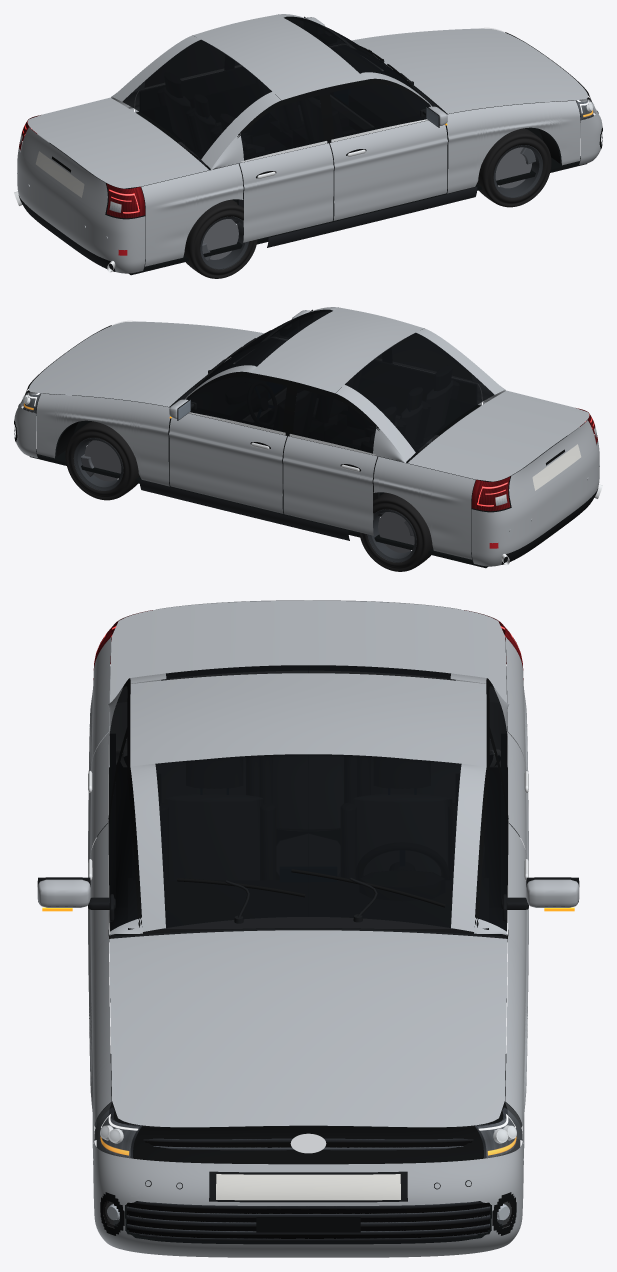
Rendered from camry.glb.
The picture shows the model from 3 angles, top to bottom: view 1: azimuth 30°, elevation 25°; view 2: azimuth 150°, elevation 25°; view 3: azimuth 270°, elevation 25°; orthographic projection. The views are drawn at different scales.
Parts seen in each view (by area): view 1: hood__panel, decklid, back_glass__panel, door_rf__panel, roof__panel, door_rr__panel, fender_r__panel, rbumper_cover__panel, quarter_r__panel, door_rf_glass__panel, door_rr_glass__panel, tire_rf__detail (+21 smaller); view 2: hood__panel, decklid, back_glass__panel, door_lf__panel, roof__panel, door_lr__panel, fender_l__panel, rbumper_cover__panel, quarter_l__panel, door_lf_glass__panel, door_lr_glass__panel, tire_lf__detail (+21 smaller); view 3: hood__panel, windshield__panel, roof__panel, decklid, fbumper_cover__panel, grille_lower__panel, grille__panel, license_bracket_f__detail, pillar_a_l, pillar_a_r, door_lf_glass__panel, door_rf_glass__panel (+26 smaller).
Boxes of the visible parts, box(x1,y1,x2,y2) form: hood__panel: box(351, 28, 587, 113); decklid: box(27, 97, 209, 188); back_glass__panel: box(122, 39, 271, 159); door_rf__panel: box(330, 120, 447, 220); roof__panel: box(193, 14, 365, 100); door_rr__panel: box(239, 143, 333, 242); fender_r__panel: box(446, 100, 580, 193); rbumper_cover__panel: box(17, 142, 145, 273); quarter_r__panel: box(141, 163, 243, 266); door_rf_glass__panel: box(330, 84, 430, 138); door_rr_glass__panel: box(241, 95, 323, 160); tire_rf__detail: box(477, 128, 551, 207); hood__panel: box(29, 321, 263, 406); decklid: box(407, 390, 589, 481); back_glass__panel: box(345, 332, 494, 452); door_lf__panel: box(169, 413, 286, 513); roof__panel: box(251, 307, 423, 393); door_lr__panel: box(283, 436, 377, 535); fender_l__panel: box(36, 393, 170, 486); rbumper_cover__panel: box(471, 435, 599, 566); quarter_l__panel: box(373, 456, 475, 559); door_lf_glass__panel: box(186, 377, 286, 431); door_lr_glass__panel: box(293, 388, 375, 453); tire_lf__detail: box(65, 421, 139, 500); hood__panel: box(109, 930, 507, 1127); windshield__panel: box(155, 754, 461, 927); roof__panel: box(130, 673, 486, 766); decklid: box(110, 600, 506, 702); fbumper_cover__panel: box(93, 1139, 523, 1257); grille_lower__panel: box(126, 1201, 490, 1241); grille__panel: box(133, 1126, 483, 1164); license_bracket_f__detail: box(216, 1174, 400, 1200); pillar_a_l: box(451, 764, 486, 931); pillar_a_r: box(130, 764, 165, 931); door_lf_glass__panel: box(479, 737, 507, 930); door_rf_glass__panel: box(109, 737, 137, 930).
Size of the model in its own units: 4.91 by 1.52 by 2.26.
31 materials, 6 textured.
